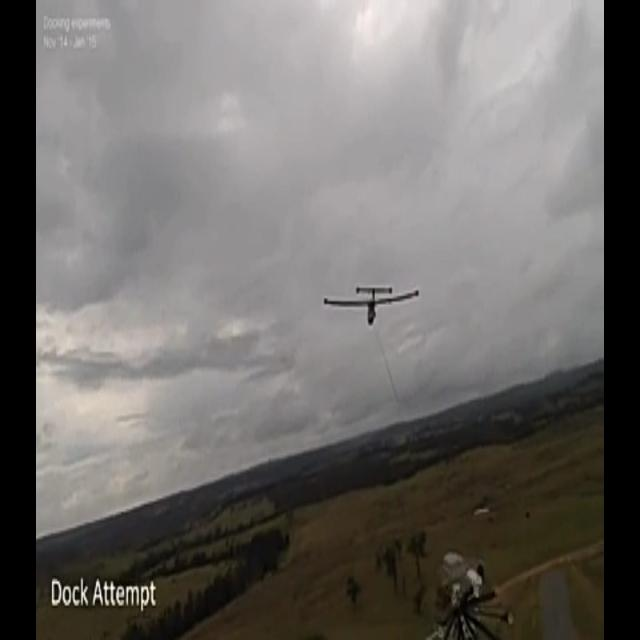iha: (355, 279, 388, 330)
